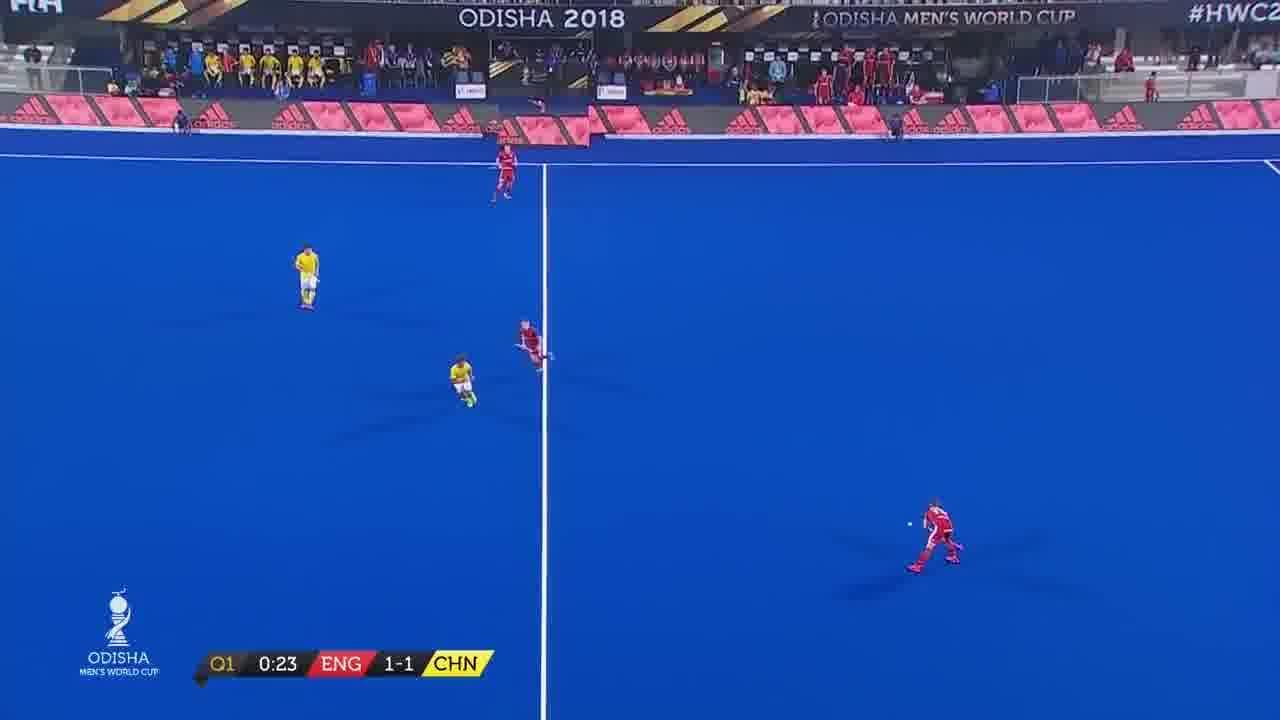ball: (900, 512, 921, 542)
